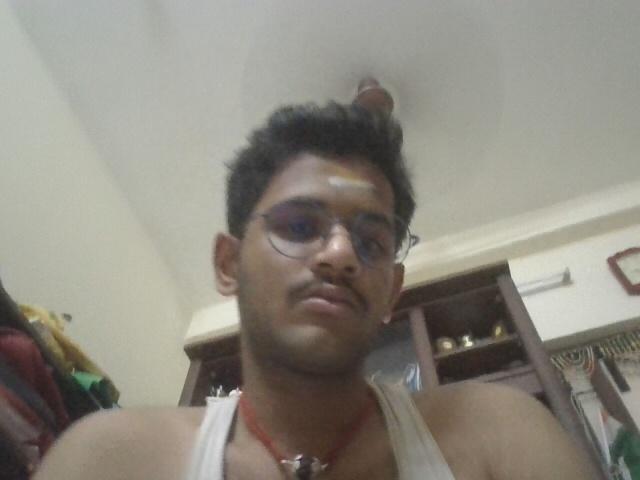real: (231, 147, 431, 347)
